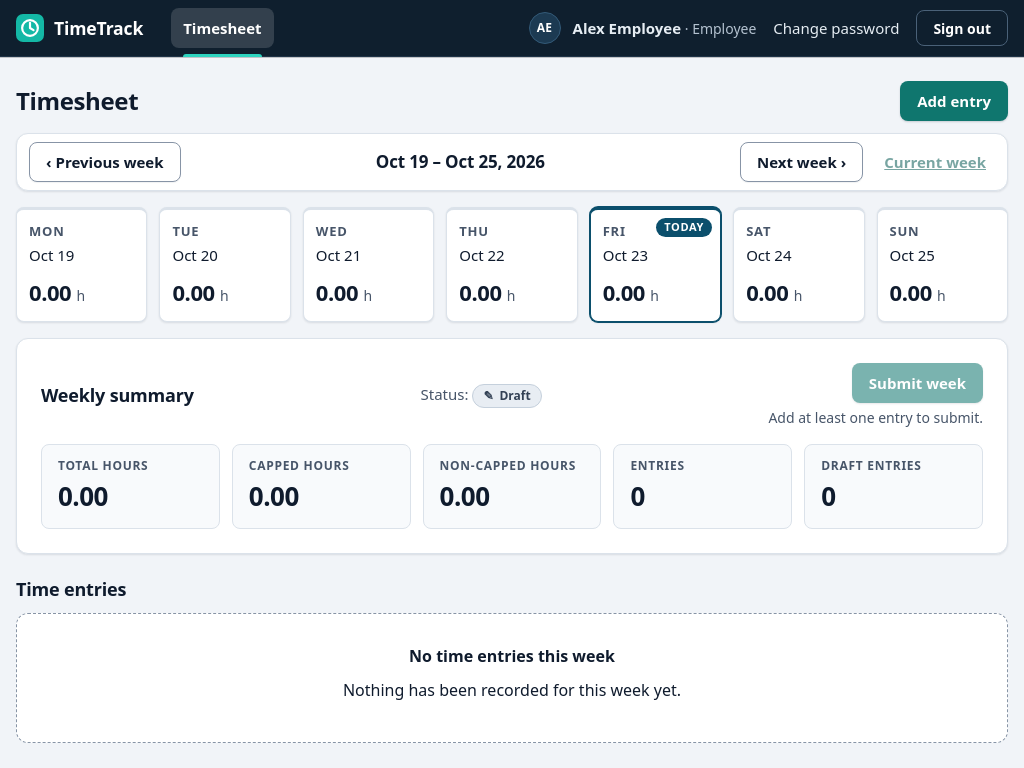
Add time entry › opens as a labelled modal dialog with focus inside, and defaults the date to today
This screenshot has width=1024, height=768.
Click the button "Add entry": (954, 101) [900, 81, 1008, 121]
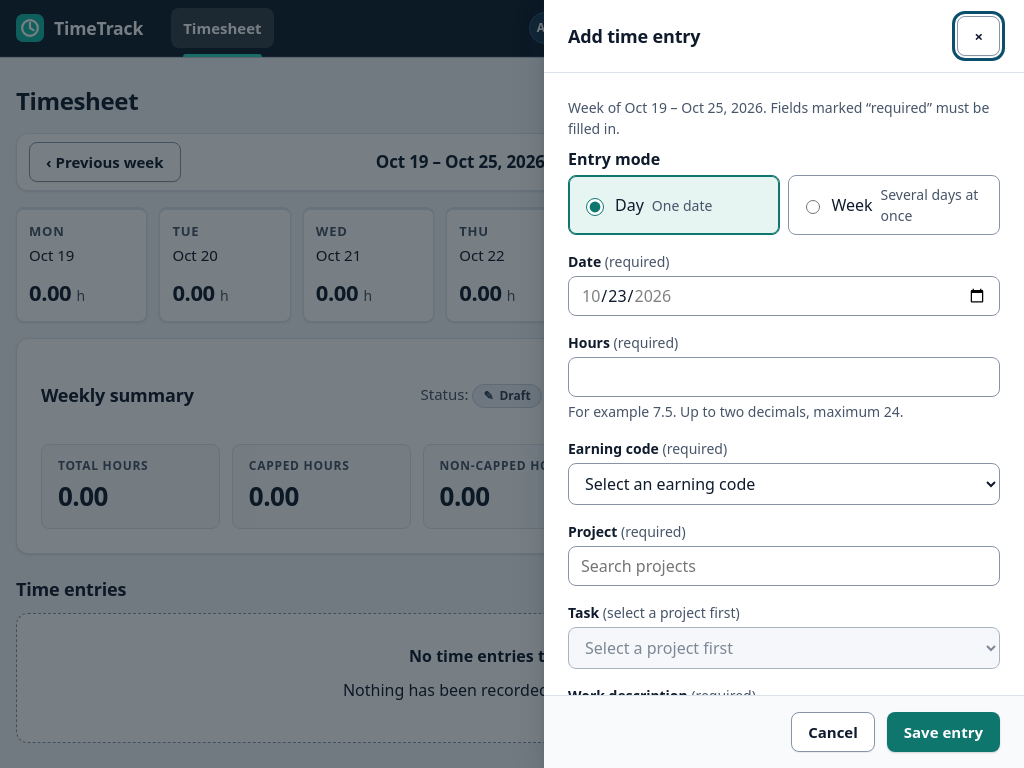
Check: the date field labelled "Date (required)" holds "2026-10-23", box [568, 276, 1000, 316]
